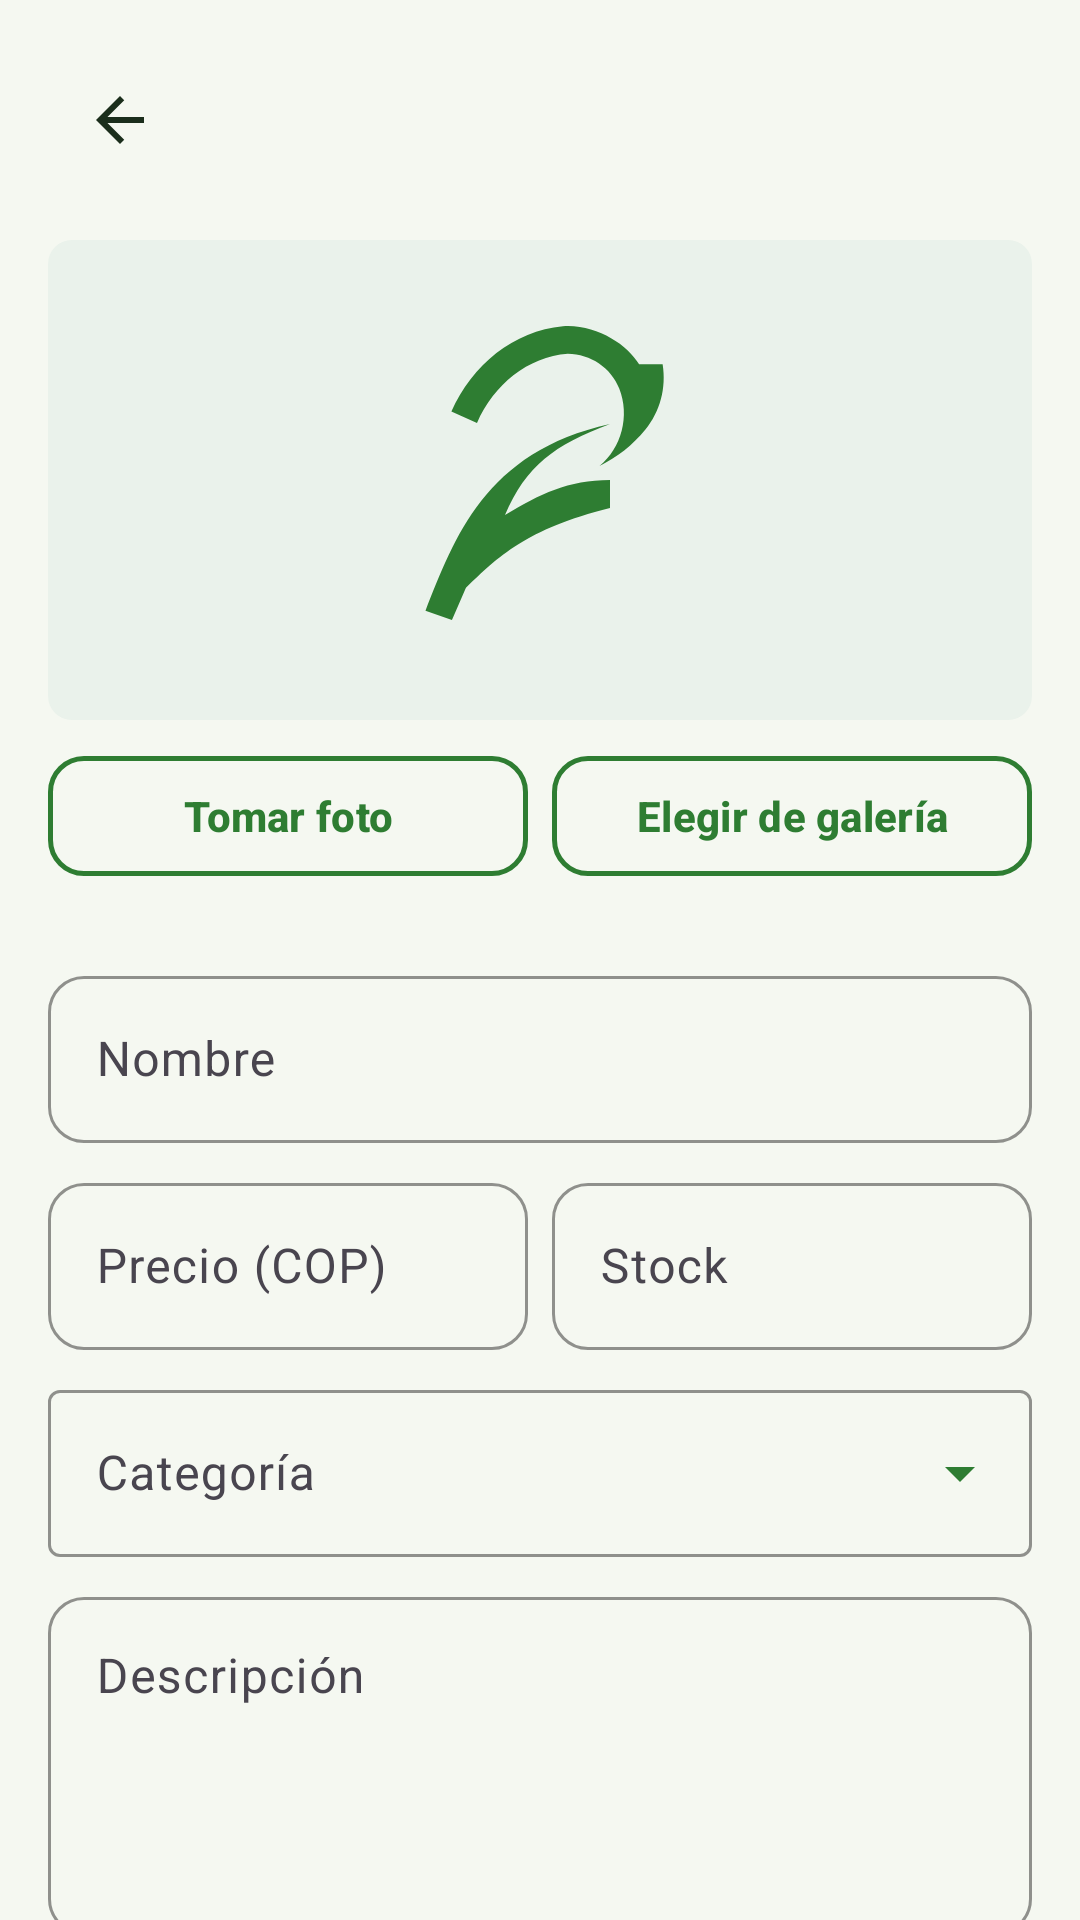

Where icons sit on this 1080*1920 app screen, as (x1, y1, x2, y2):
Volver a la pantalla anterior: (96, 96, 144, 144)
